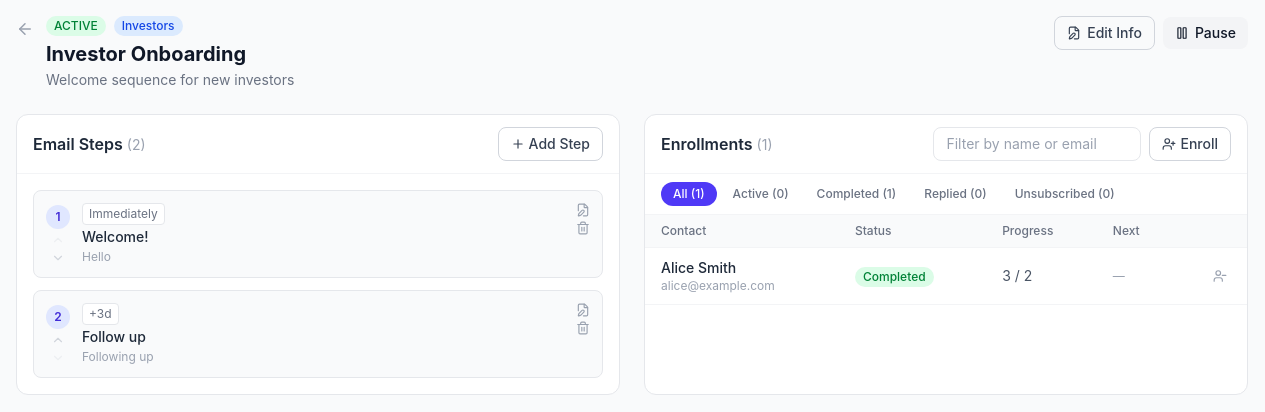
Scenario: SequenceDetailPage › status filter changes visible enrollments
Expected: the text "Alice Smith" is shown, [661,259,736,276]
// Click Active filter - should hide completed enrollment
Step 1. Click the button "Active (0)" → (761, 194), box [721,182,801,206]
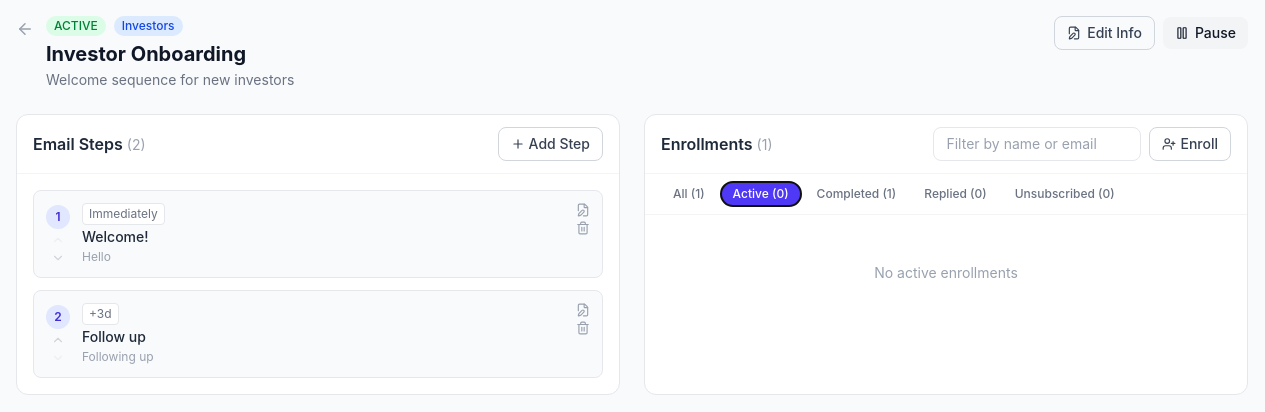
Now the text "Alice Smith" is gone
